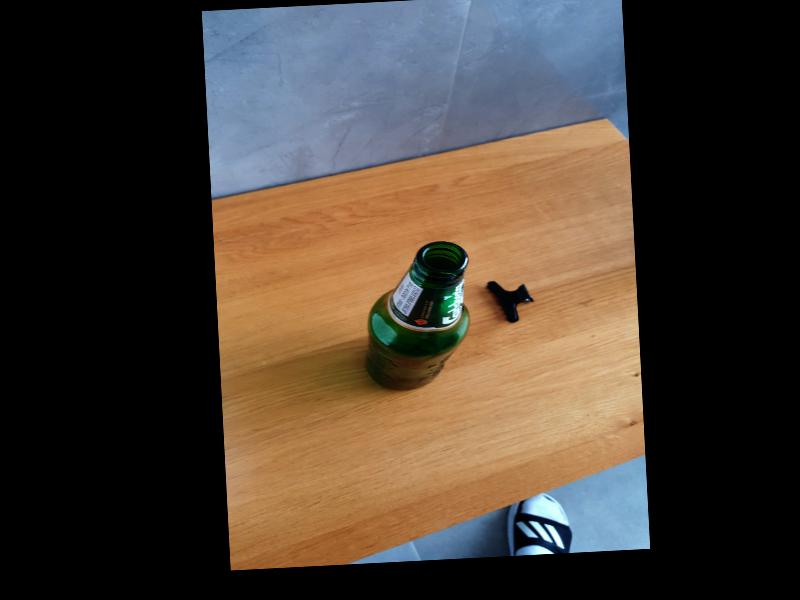Beer: (359, 240, 475, 394)
